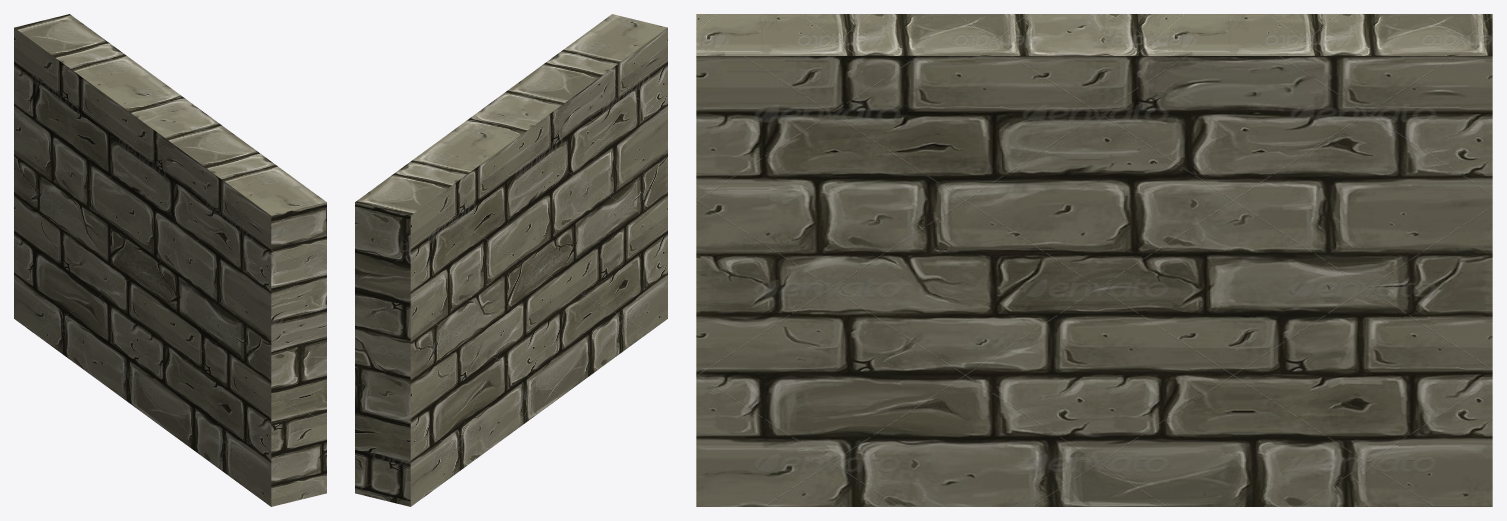
The model's file is Wall.fbx.
3 views of the same model, side by side, from view 1: azimuth 30°, elevation 25°; view 2: azimuth 150°, elevation 25°; view 3: azimuth 270°, elevation 25° (orthographic). The views are drawn at different scales.
Parts seen in each view (by area): view 1: wall; view 2: wall; view 3: wall.
Part boxes in pixels (box(x1,y1,x2,y2)): wall: box(14, 14, 326, 506); wall: box(355, 14, 667, 506); wall: box(696, 14, 1492, 506).
Size of the model in its own units: 2 by 10 by 16.
